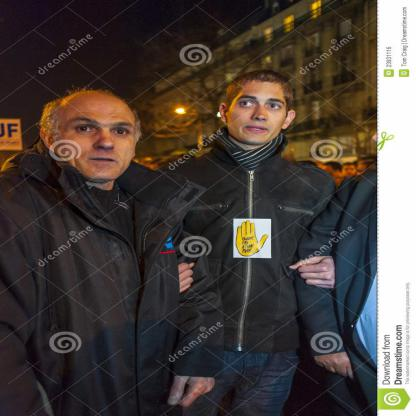face: (54, 101, 136, 180), (228, 85, 287, 144), (343, 167, 356, 177), (358, 166, 368, 176), (325, 167, 333, 175)
